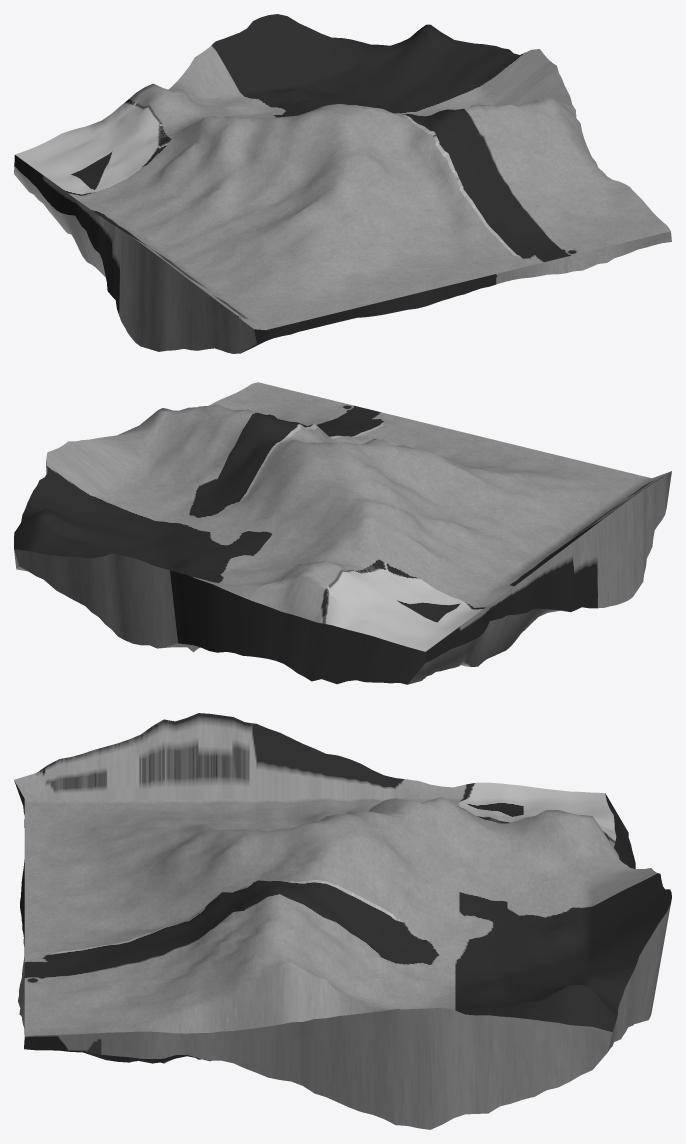
3 renders of one model, top to bottom at view 1: azimuth 30°, elevation 25°; view 2: azimuth 150°, elevation 25°; view 3: azimuth 270°, elevation 25°, orthographic. The views are drawn at different scales.
Visible parts, largest first — view 1: pCube1; view 2: pCube1; view 3: pCube1.
Part boxes in pixels (<box>): pCube1: <box>14,14,671,353</box>; pCube1: <box>14,382,671,684</box>; pCube1: <box>14,713,671,1129</box>.
Size of the model in its own units: 24.17 by 7.41 by 22.85.
